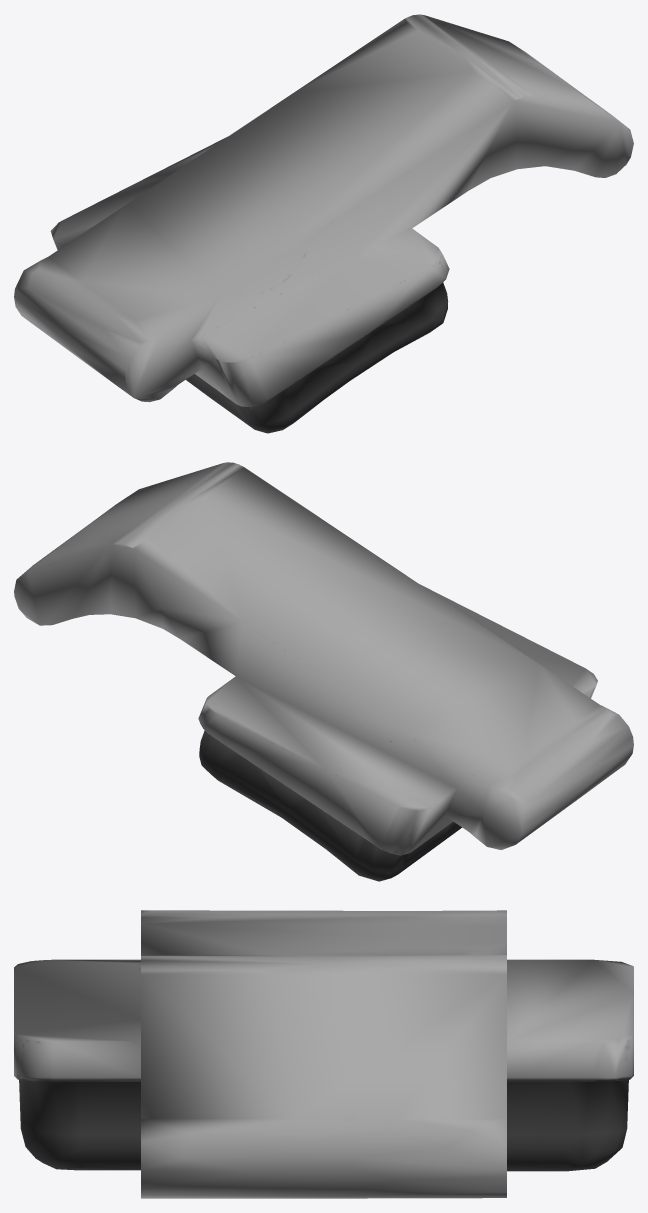
Rendered from l_float.dae.
3 renders of one model, top to bottom at view 1: azimuth 30°, elevation 25°; view 2: azimuth 150°, elevation 25°; view 3: azimuth 270°, elevation 25°, orthographic. The views are drawn at different scales.
Visible parts, largest first — view 1: float_M; view 2: float_M; view 3: float_M.
Part boxes in pixels (x1,y1,x2,y2): float_M: (14,14,633,433); float_M: (14,462,633,881); float_M: (14,910,633,1198).
Bounding box in the file's own units: 0.0484 × 0.0229 × 0.031.
Materials: 1 (1 with a texture image).
